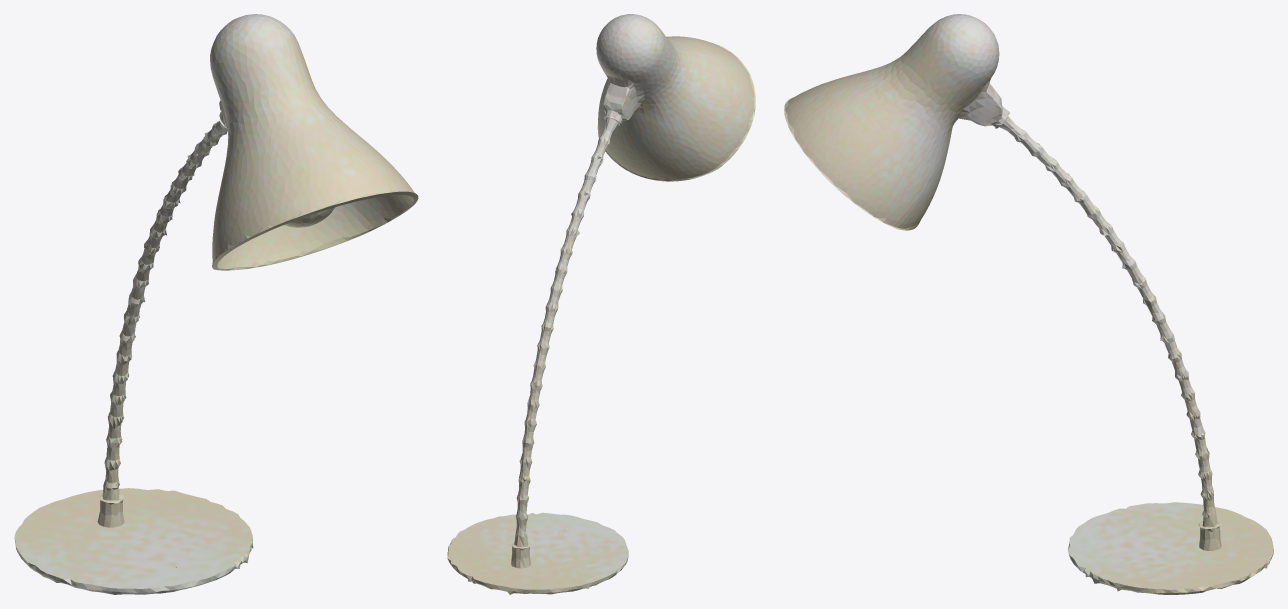
Rendered from lamp3_final200.obj.
3 views of the same model, side by side, from view 1: azimuth 30°, elevation 25°; view 2: azimuth 150°, elevation 25°; view 3: azimuth 270°, elevation 25° (orthographic). The views are drawn at different scales.
Bounding box in the file's own units: 0.5377 × 1.53 × 1.27.
